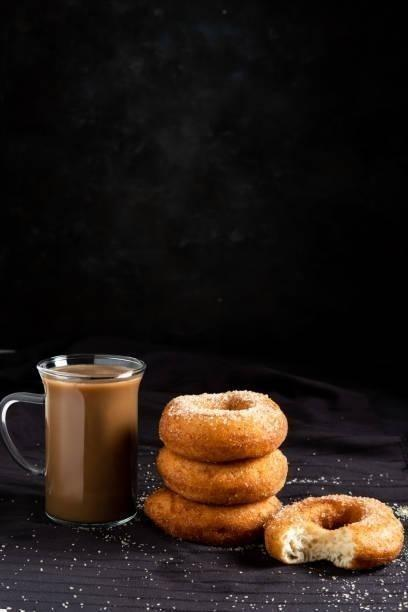glass-mug: (0, 350, 149, 532)
